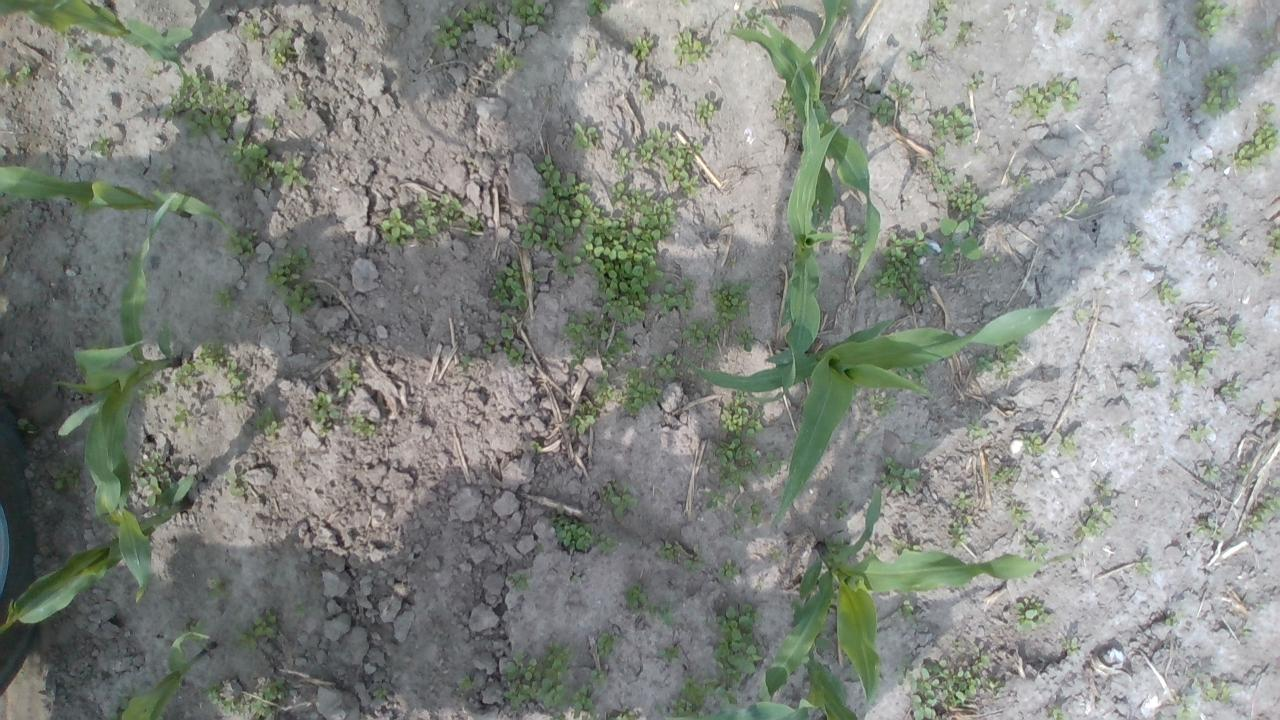Maize: (686, 300, 1073, 532), (759, 488, 1088, 720), (52, 190, 182, 601), (719, 0, 888, 290), (735, 105, 856, 411), (0, 472, 195, 632), (654, 597, 862, 720), (0, 0, 195, 99), (0, 164, 233, 236), (120, 631, 216, 720), (790, 0, 854, 82)
Weeds: (578, 182, 675, 327), (513, 153, 592, 249), (158, 69, 251, 143), (712, 600, 764, 709), (222, 130, 308, 188), (501, 638, 573, 707), (636, 128, 704, 198), (869, 230, 933, 304), (264, 245, 318, 316), (950, 639, 1004, 706), (897, 657, 949, 720), (1010, 77, 1080, 121), (1227, 122, 1280, 171), (938, 216, 984, 272), (490, 260, 542, 309), (714, 437, 760, 490), (1198, 64, 1242, 118), (562, 310, 602, 368), (414, 192, 462, 240), (617, 366, 663, 416), (137, 450, 173, 511), (549, 505, 596, 551), (718, 390, 764, 436), (1192, 0, 1242, 41), (672, 672, 718, 716), (1170, 345, 1218, 387), (709, 280, 750, 328), (930, 104, 974, 148), (235, 607, 278, 652), (241, 676, 286, 718), (651, 278, 698, 316), (681, 318, 722, 360), (600, 476, 640, 518), (497, 311, 527, 366), (879, 456, 920, 496), (1072, 503, 1114, 540), (920, 146, 953, 193), (949, 178, 988, 217), (194, 336, 232, 374), (1014, 596, 1055, 631), (1241, 492, 1280, 528), (501, 0, 549, 29), (310, 391, 340, 437), (674, 29, 711, 66), (380, 207, 415, 246), (1192, 674, 1236, 703), (268, 27, 297, 71), (223, 226, 257, 262), (458, 0, 500, 29), (548, 246, 584, 278), (892, 360, 930, 390), (624, 582, 656, 616), (568, 684, 598, 720), (601, 330, 631, 366), (48, 456, 80, 488), (568, 404, 600, 436), (1019, 530, 1048, 564), (844, 224, 868, 264), (771, 86, 800, 119), (336, 360, 362, 396), (1140, 130, 1171, 160), (946, 515, 975, 547), (570, 122, 602, 150), (430, 18, 462, 46), (213, 281, 239, 315), (994, 336, 1024, 364), (251, 406, 279, 436), (343, 412, 375, 438), (730, 8, 766, 31), (494, 49, 528, 73), (132, 373, 162, 400), (867, 392, 898, 418), (610, 146, 636, 176), (170, 401, 194, 433), (869, 97, 896, 125), (1052, 430, 1078, 459), (760, 449, 786, 478), (920, 9, 944, 40), (595, 368, 615, 405), (596, 631, 622, 659), (886, 534, 920, 554), (1006, 502, 1032, 528), (630, 34, 656, 60), (682, 544, 706, 572), (692, 97, 716, 125), (1174, 695, 1200, 720), (462, 213, 487, 239), (224, 469, 248, 496), (214, 390, 249, 408), (1020, 432, 1046, 456), (652, 600, 676, 626), (1191, 518, 1220, 539), (208, 576, 231, 602), (652, 352, 675, 378), (1219, 324, 1246, 346), (716, 558, 743, 580), (1257, 397, 1280, 422), (1212, 214, 1234, 240), (702, 488, 728, 510), (732, 326, 754, 352), (951, 23, 972, 50), (898, 600, 918, 628), (68, 44, 93, 66), (226, 359, 247, 385), (656, 540, 682, 561), (1059, 198, 1089, 216), (1157, 280, 1181, 302), (1124, 231, 1144, 257), (240, 20, 262, 43), (174, 362, 194, 387), (1166, 170, 1190, 190), (90, 134, 110, 158), (201, 681, 221, 705), (656, 643, 680, 663), (508, 570, 532, 590), (596, 534, 620, 554), (991, 466, 1016, 485), (1218, 381, 1244, 399), (178, 616, 204, 634), (974, 352, 996, 373), (1175, 316, 1198, 336), (586, 669, 609, 689), (824, 536, 847, 556), (748, 498, 764, 526), (1259, 50, 1280, 71), (1188, 424, 1210, 443), (584, 0, 610, 16), (638, 77, 654, 103), (156, 165, 174, 188), (1060, 636, 1080, 656), (965, 421, 987, 439), (888, 82, 911, 99), (1267, 227, 1280, 257), (1096, 480, 1114, 501), (908, 50, 926, 70), (964, 75, 984, 93), (835, 0, 856, 17), (952, 492, 974, 508), (53, 26, 75, 42), (606, 709, 638, 720), (285, 92, 305, 109), (832, 498, 848, 519), (934, 0, 956, 15), (1258, 103, 1276, 121), (222, 698, 240, 716), (994, 362, 1013, 379), (1202, 464, 1220, 481), (1014, 173, 1032, 190), (1054, 14, 1072, 31), (731, 502, 749, 519), (261, 114, 280, 130), (1136, 556, 1151, 576), (89, 336, 110, 350), (1072, 306, 1090, 322), (457, 676, 475, 692), (599, 316, 611, 340), (1138, 370, 1157, 385), (1260, 256, 1274, 276), (117, 692, 131, 712), (459, 354, 471, 377), (848, 663, 862, 682), (1236, 461, 1252, 477), (1050, 706, 1068, 720), (1164, 611, 1180, 626), (1239, 624, 1252, 642), (866, 542, 881, 557), (528, 440, 544, 454), (0, 66, 12, 84), (18, 64, 30, 82), (908, 442, 928, 452), (1169, 396, 1183, 410), (178, 184, 192, 198), (728, 522, 742, 536), (850, 430, 866, 442), (482, 338, 494, 354), (372, 687, 389, 698), (721, 211, 734, 224), (1206, 242, 1218, 256), (294, 602, 308, 614), (1107, 31, 1122, 42), (988, 252, 1001, 264), (586, 46, 598, 59), (551, 710, 566, 720), (1260, 26, 1272, 38), (130, 684, 142, 696), (768, 547, 780, 559), (1153, 58, 1164, 70), (1046, 0, 1061, 8), (108, 712, 122, 720), (568, 571, 578, 582), (1118, 424, 1128, 432), (726, 258, 736, 266), (680, 0, 690, 6), (1083, 0, 1092, 5)
